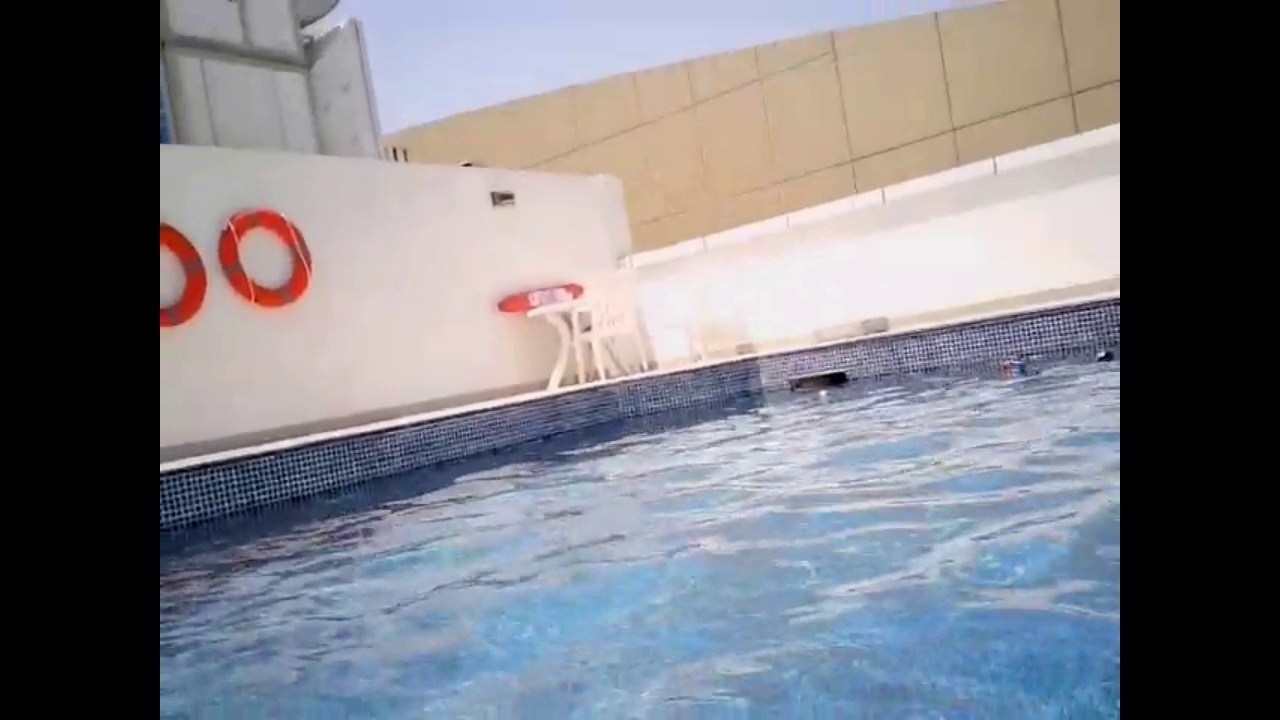debris: (1092, 341, 1114, 360), (816, 385, 832, 397)
